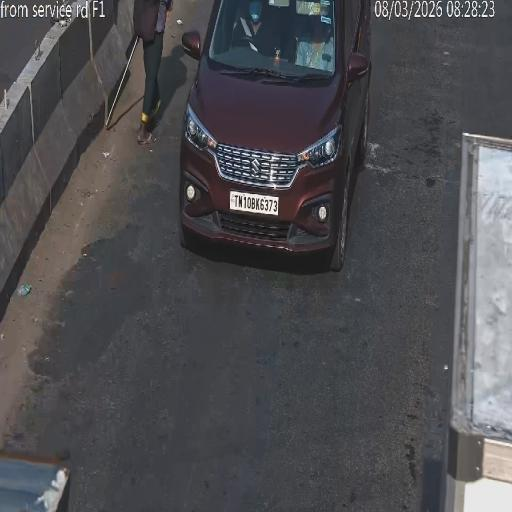person_with_seatbelt: (233, 16, 265, 52)
